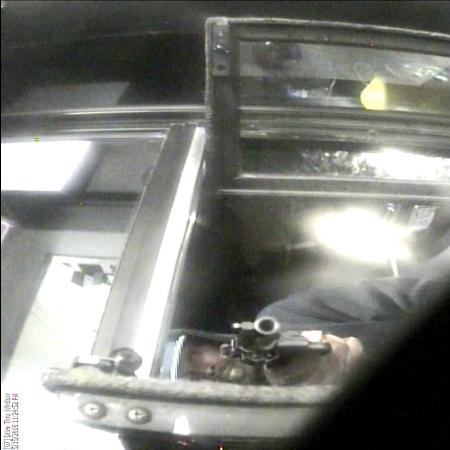Pistol: (216, 318, 332, 364)
